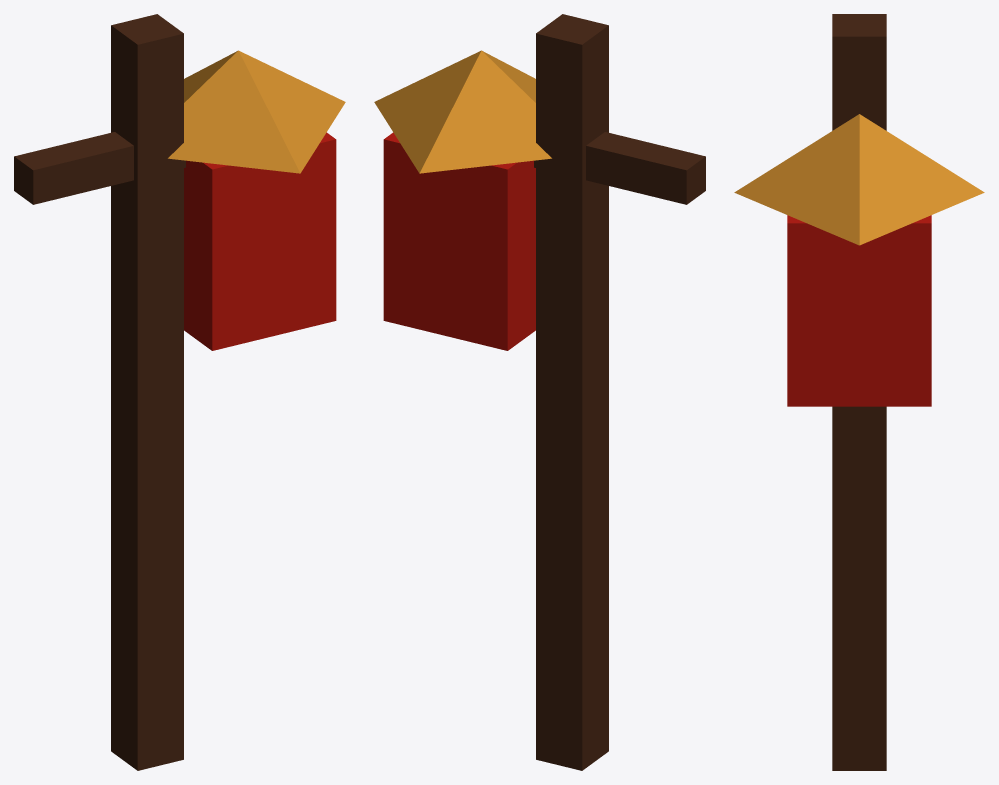
The model's file is lantern.obj.
3 renders of one model, left to right at view 1: azimuth 30°, elevation 25°; view 2: azimuth 150°, elevation 25°; view 3: azimuth 270°, elevation 25°, orthographic.
Visible parts, largest first — view 1: StoryWorld_Lantern; view 2: StoryWorld_Lantern; view 3: StoryWorld_Lantern.
Boxes of the visible parts, left/top/right/bottom form: StoryWorld_Lantern: left=14, top=14, right=345, bottom=770; StoryWorld_Lantern: left=374, top=14, right=705, bottom=770; StoryWorld_Lantern: left=734, top=14, right=984, bottom=770.
Size of the model in its own units: 1.95 by 4.2 by 1.3.
